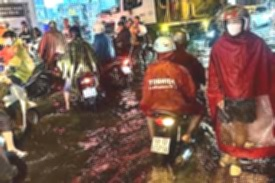Bien-so: (138, 143, 159, 161), (78, 87, 93, 101), (117, 69, 128, 79)
